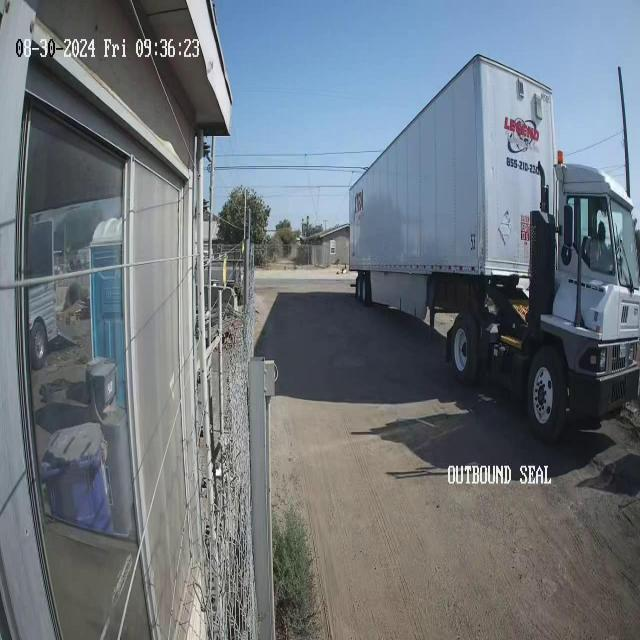TRUCK_IN: (348, 53, 558, 284)
